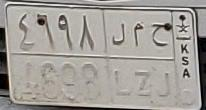4: (18, 13, 38, 99)
6: (37, 13, 60, 100)
8: (80, 14, 100, 101)
9: (58, 13, 79, 101)
J: (152, 23, 171, 98)
L: (111, 22, 131, 97)
Z: (133, 20, 151, 97)
